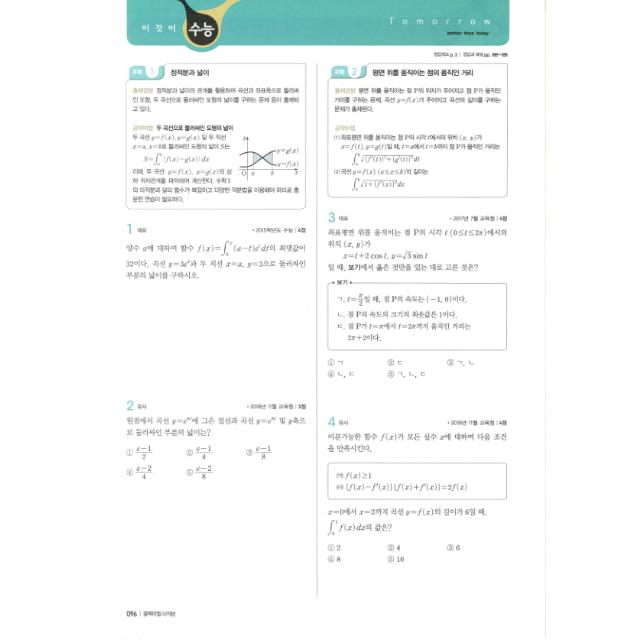multiple: (321, 204, 514, 386), (320, 412, 514, 568), (118, 391, 312, 492)
short: (117, 216, 311, 290)
